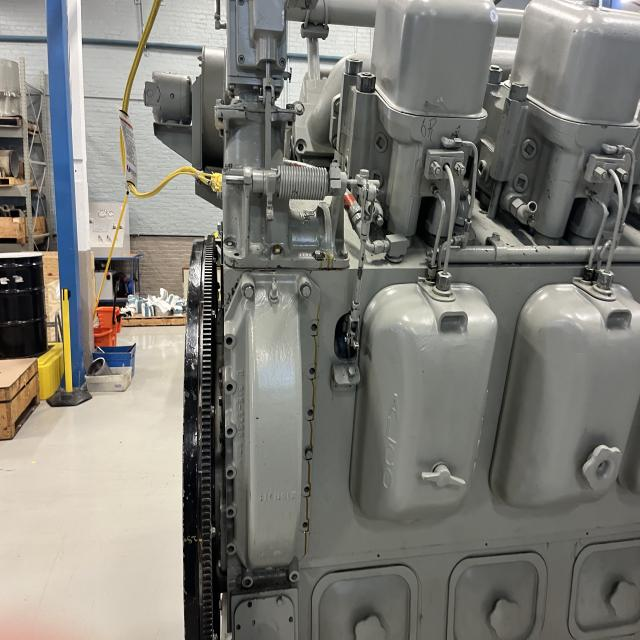Oil Leak: (300, 303, 320, 554), (323, 250, 335, 270)
